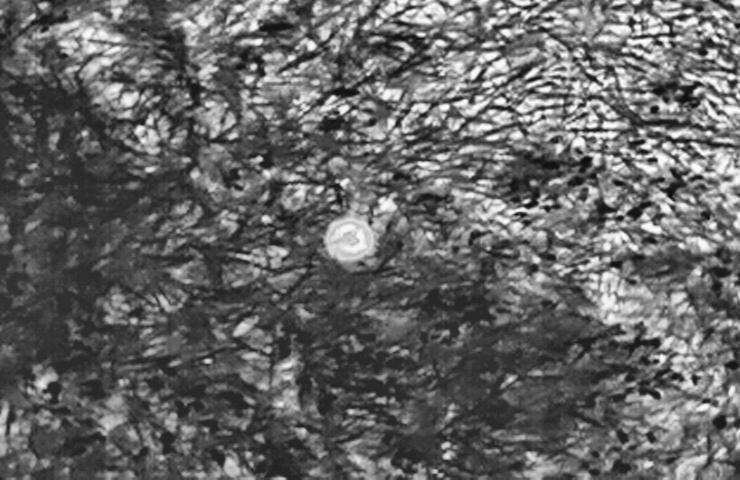landmines: (322, 215, 381, 269)
